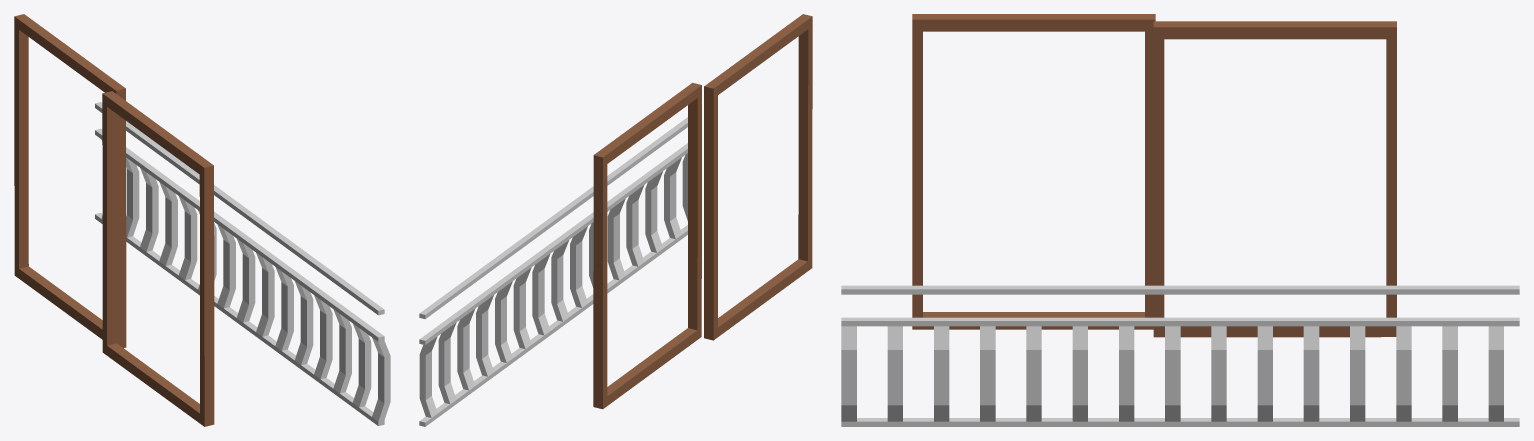
Rendered from Vrd_1.FBX.
3 renders of one model, left to right at view 1: azimuth 30°, elevation 25°; view 2: azimuth 150°, elevation 25°; view 3: azimuth 270°, elevation 25°, orthographic. The views are drawn at different scales.
Parts seen in each view (by area): view 1: Object002; view 2: Object002; view 3: Object002.
Boxes of the visible parts, box(x1,y1,x2,y2) form: Object002: box(14, 14, 390, 426); Object002: box(419, 14, 812, 426); Object002: box(841, 14, 1519, 426).
Size of the model in its own units: 54.25 by 89.95 by 170.
Materials: 1 (1 with a texture image).
